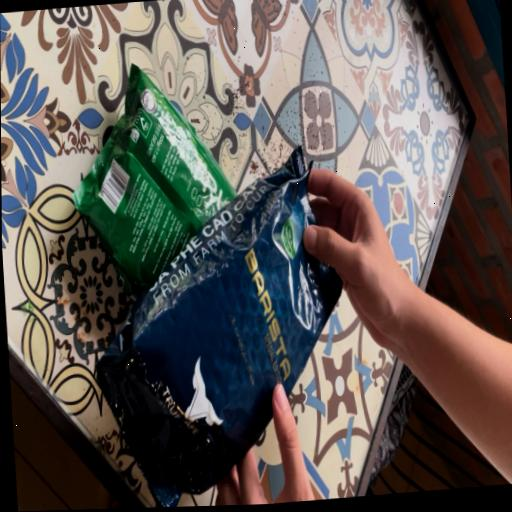cafe_hat: (97, 149, 341, 507)
cafe_xay: (73, 67, 234, 294)
